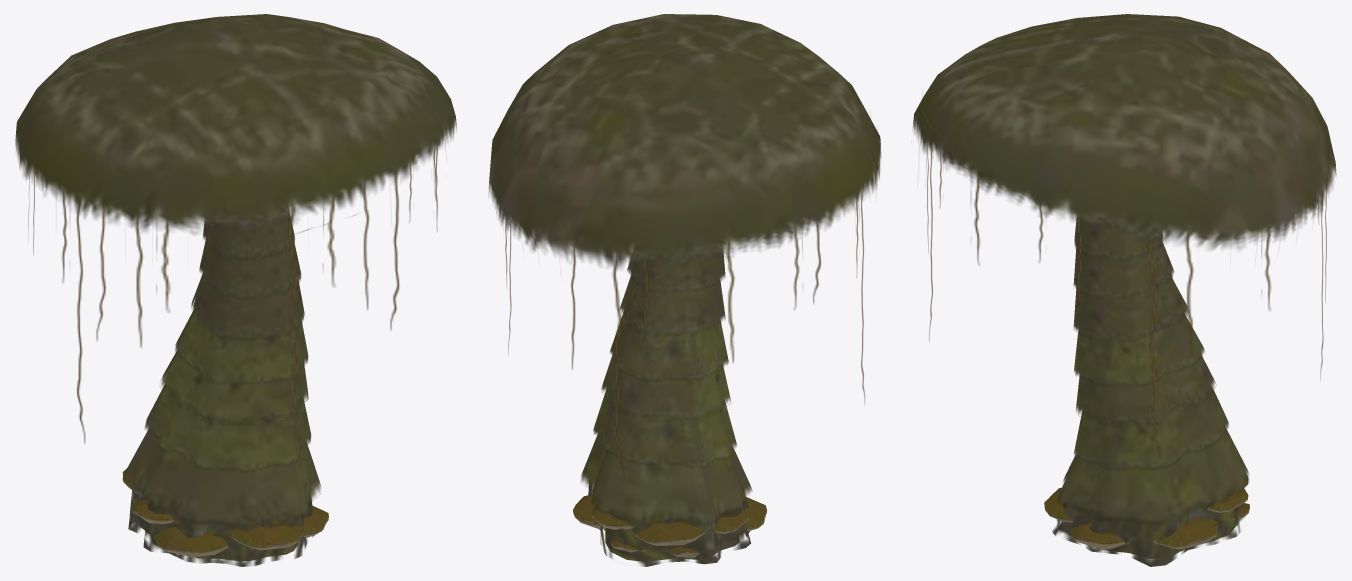
Rendered from shroom-tall.glb.
3 views of the same model, side by side, from view 1: azimuth 30°, elevation 25°; view 2: azimuth 150°, elevation 25°; view 3: azimuth 270°, elevation 25° (orthographic). The views are drawn at different scales.
Visible parts, largest first — view 1: shroom-tall; view 2: shroom-tall; view 3: shroom-tall.
Part boxes in pixels (box(x1,y1,x2,y2)): shroom-tall: box(15, 14, 456, 566); shroom-tall: box(488, 14, 881, 566); shroom-tall: box(912, 14, 1336, 566).
Bounding box in the file's own units: 3.91 × 5 × 3.97.
1 material, 1 textured.
